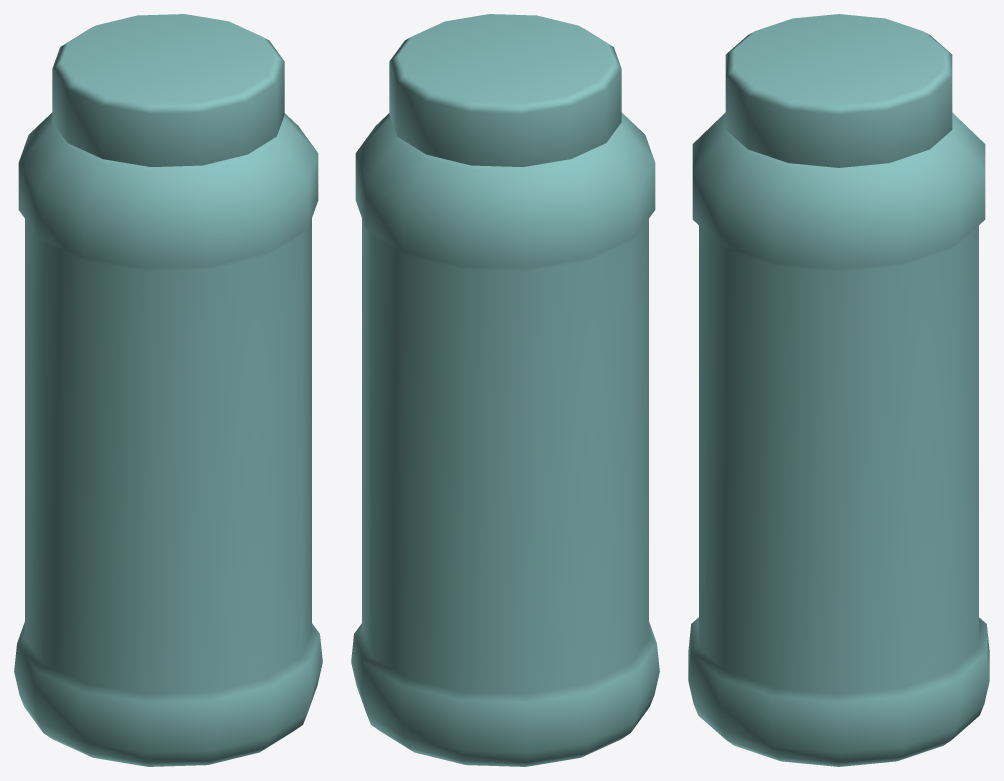
Rendered from Salt.fbx.
The picture shows the model from 3 angles, left to right: view 1: azimuth 30°, elevation 25°; view 2: azimuth 150°, elevation 25°; view 3: azimuth 270°, elevation 25°; orthographic projection.
Visible parts, largest first — view 1: pCylinder3; view 2: pCylinder3; view 3: pCylinder3.
Part boxes in pixels (<box>): pCylinder3: <box>14,14,322,766</box>; pCylinder3: <box>351,14,659,766</box>; pCylinder3: <box>688,14,989,766</box>.
Size of the model in its own units: 0.0805 by 0.1881 by 0.0785.
